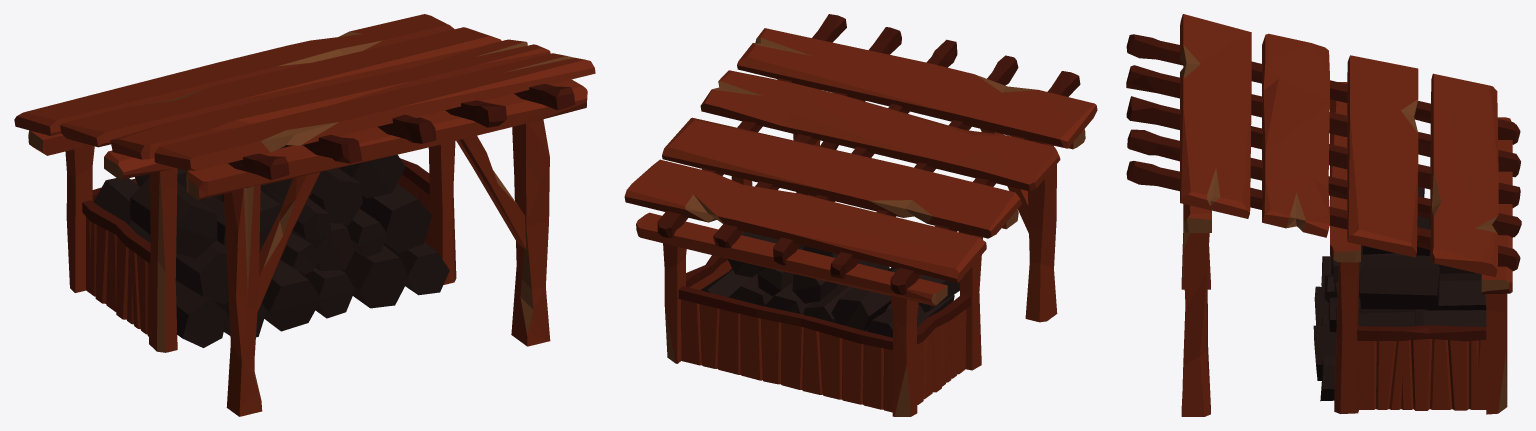
The model's file is Woodshed.001_1.fbx.
The picture shows the model from 3 angles, left to right: view 1: azimuth 30°, elevation 25°; view 2: azimuth 150°, elevation 25°; view 3: azimuth 270°, elevation 25°; orthographic projection. The views are drawn at different scales.
Visible parts, largest first — view 1: Woodshed.001_1; view 2: Woodshed.001_1; view 3: Woodshed.001_1.
Boxes of the visible parts, left/top/right/bottom form: Woodshed.001_1: left=14, top=14, right=595, bottom=416; Woodshed.001_1: left=624, top=14, right=1097, bottom=416; Woodshed.001_1: left=1126, top=14, right=1521, bottom=416.
Size of the model in its own units: 123 by 79.52 by 114.
